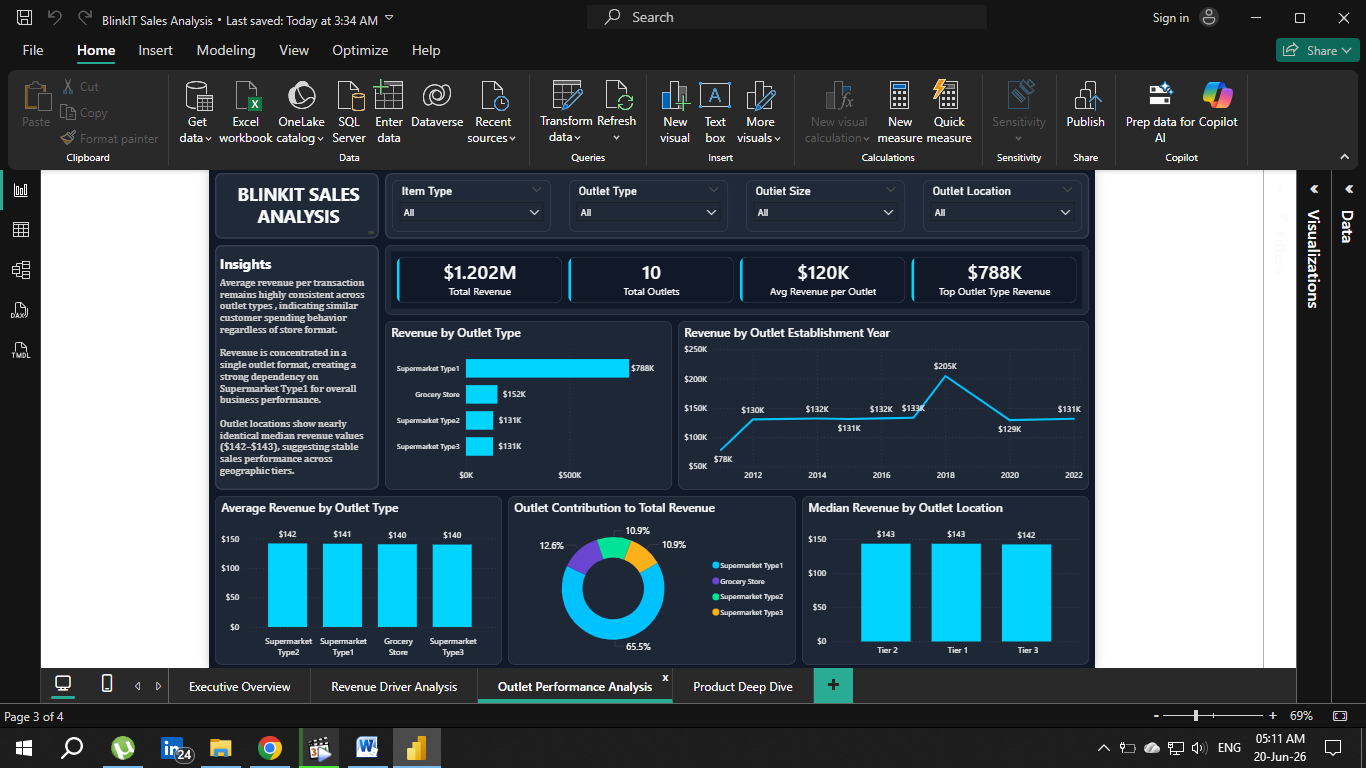

Layout of this report page (visuals, bound fields, positions):
{"tool":"powerbi","page":{"name":"Outlet Performance Analysis","canvas":[1280,720],"ordinal":2},"visuals":[{"type":"cardVisual","fields":{"Data":["sales_cleaned.Total Revenue","sales_cleaned.Total Outlets","sales_cleaned.Avg Revenue per Outlet","sales_cleaned.Top Outlet Type Revenue"]},"box":[254.5,108.4,1017.8,101.2],"z":0},{"type":"textbox","title":"BLINKIT SALES ANALYSIS","box":[254.5,4.3,1018,95.4],"z":1000},{"type":"clusteredBarChart","title":"Revenue by Outlet Type","fields":{"Category":["sales_cleaned.outlet_type"],"Y":["sales_cleaned.Total Revenue"]},"box":[254.5,218.3,414.9,244.3],"z":2000},{"type":"slicer","title":"Outlet Type","fields":{"Values":["sales_cleaned.outlet_type"]},"box":[520.5,14.5,229.9,75.2],"z":3000},{"type":"slicer","title":"Outlet Type","fields":{"Values":["sales_cleaned.item_type"]},"box":[264.6,14.5,229.9,75.2],"z":4000},{"type":"slicer","title":"Outlet Type","fields":{"Values":["sales_cleaned.outlet_size"]},"box":[776.4,14.5,229.9,75.2],"z":5000},{"type":"slicer","title":"Outlet Type","fields":{"Values":["sales_cleaned.outlet_location"]},"box":[1032.3,14.5,229.9,75.2],"z":6000},{"type":"clusteredColumnChart","title":"Average Revenue by Outlet Type","fields":{"Category":["sales_cleaned.outlet_type"],"Y":["sales_cleaned.Average Revenue"]},"box":[8.7,471.3,415,244.3],"z":7000},{"type":"clusteredColumnChart","title":"Median Revenue by Outlet Location","fields":{"Category":["sales_cleaned.outlet_location"],"Y":["sales_cleaned.Median Revenue"]},"box":[857.3,471.3,414.9,244.3],"z":8000},{"type":"textbox","title":"BLINKIT SALES ANALYSIS","box":[8.7,4.3,237.1,95.4],"z":9000},{"type":"textbox","title":"Insights","box":[8.7,108.4,237.1,354.2],"z":10000},{"type":"lineChart","title":"Revenue by Outlet Establishment Year","fields":{"Category":["sales_cleaned.outlet_year"],"Y":["sales_cleaned.Total Revenue"]},"box":[678.1,218.3,594.2,244.3],"z":11000},{"type":"donutChart","title":"Outlet Contribution to Total Revenue","fields":{"Category":["sales_cleaned.outlet_type"],"Y":["sales_cleaned.Total Revenue"]},"box":[432.3,471.3,416,244.3],"z":12000}]}

Visuals, with their boxes on the page's 1280x720 design canvas (x1, y1, x2, y2). These are canvas units, not pixel positions in the 1366x768 screenshot, which may show the page scaled, cropped or inside an application window:
cardVisual - sales_cleaned.Total Revenue x sales_cleaned.Total Outlets: box(254, 108, 1272, 210)
"BLINKIT SALES ANALYSIS" textbox: box(254, 4, 1272, 100)
"Revenue by Outlet Type" clusteredBarChart: box(254, 218, 669, 463)
"Outlet Type" slicer: box(520, 14, 750, 90)
"Outlet Type" slicer: box(265, 14, 494, 90)
"Outlet Type" slicer: box(776, 14, 1006, 90)
"Outlet Type" slicer: box(1032, 14, 1262, 90)
"Average Revenue by Outlet Type" clusteredColumnChart: box(9, 471, 424, 716)
"Median Revenue by Outlet Location" clusteredColumnChart: box(857, 471, 1272, 716)
"BLINKIT SALES ANALYSIS" textbox: box(9, 4, 246, 100)
"Insights" textbox: box(9, 108, 246, 463)
"Revenue by Outlet Establishment Year" lineChart: box(678, 218, 1272, 463)
"Outlet Contribution to Total Revenue" donutChart: box(432, 471, 848, 716)
